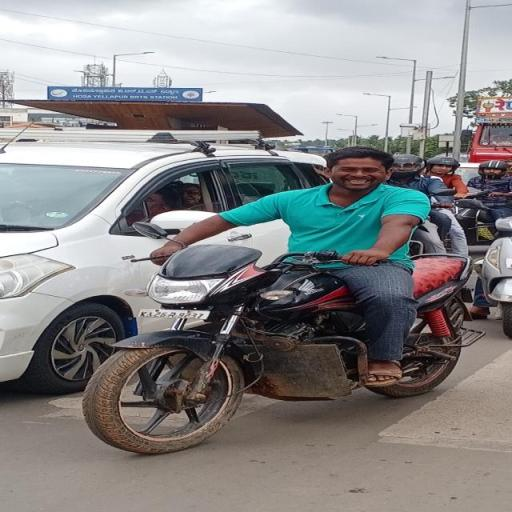bike: (74, 144, 492, 404)
numberplate: (134, 306, 208, 322)
withouthelmet: (330, 148, 388, 190)
